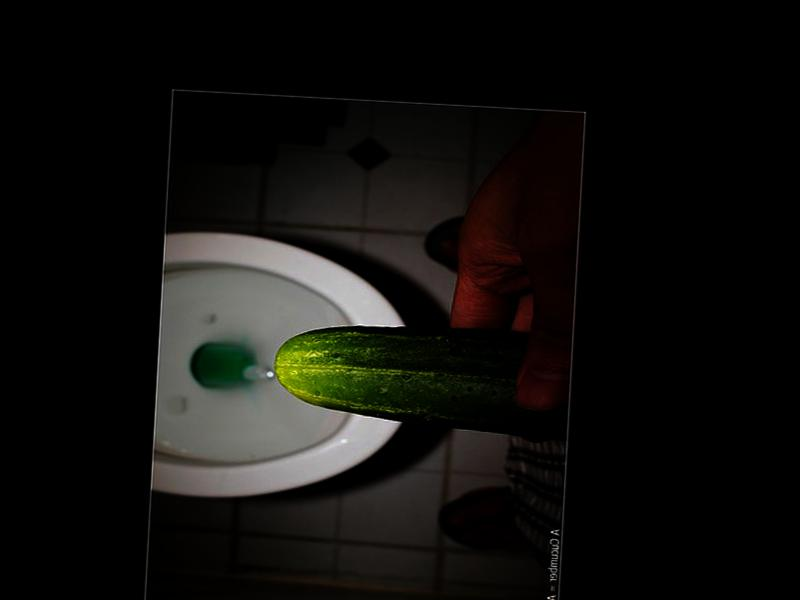Cucumber: (272, 319, 576, 440)
